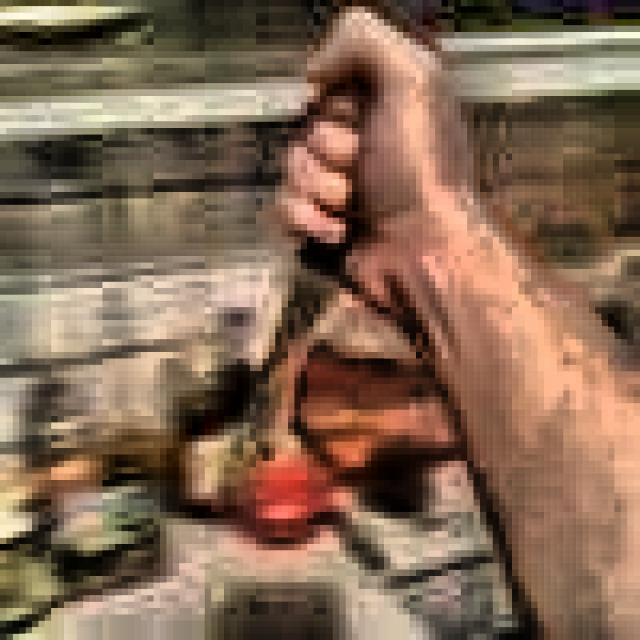knife: (244, 28, 443, 507)
